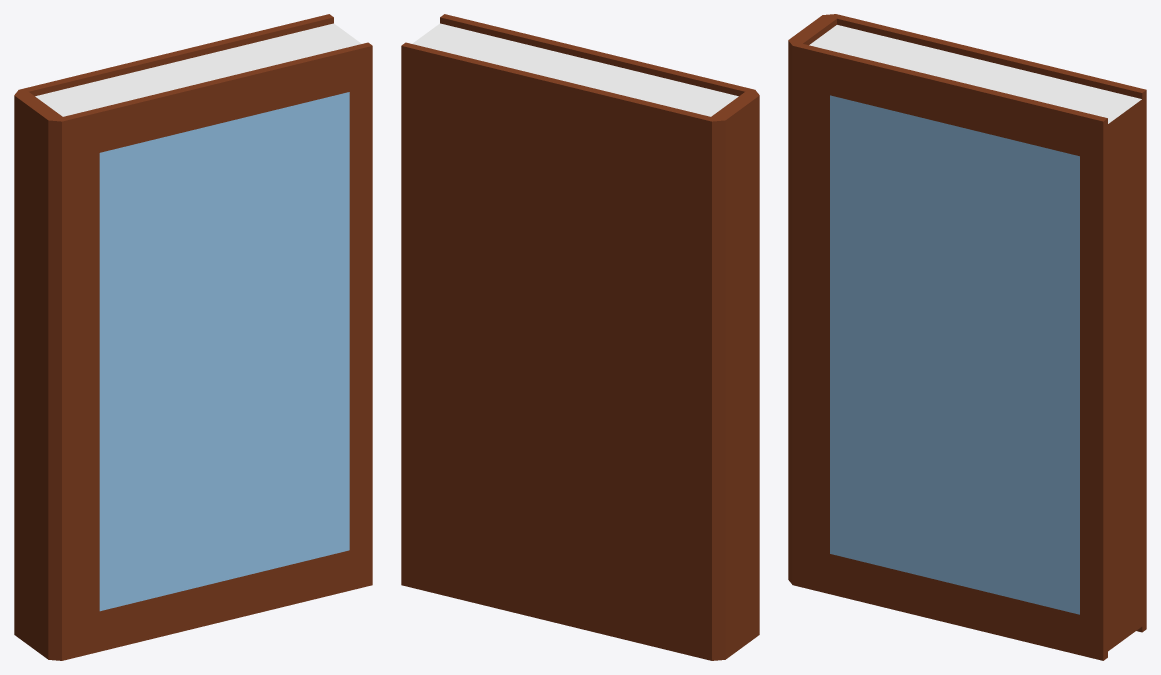
Rendered from 5 book.fbx.
The picture shows the model from 3 angles, left to right: view 1: azimuth 30°, elevation 25°; view 2: azimuth 150°, elevation 25°; view 3: azimuth 330°, elevation 25°; orthographic projection.
Visible parts, largest first — view 1: 5 book; view 2: 5 book; view 3: 5 book.
Part boxes in pixels (x1,y1,x2,y2): 5 book: (14,14,372,660); 5 book: (401,14,759,660); 5 book: (788,14,1146,660).
Size of the model in its own units: 10.83 by 17.45 by 2.55.
